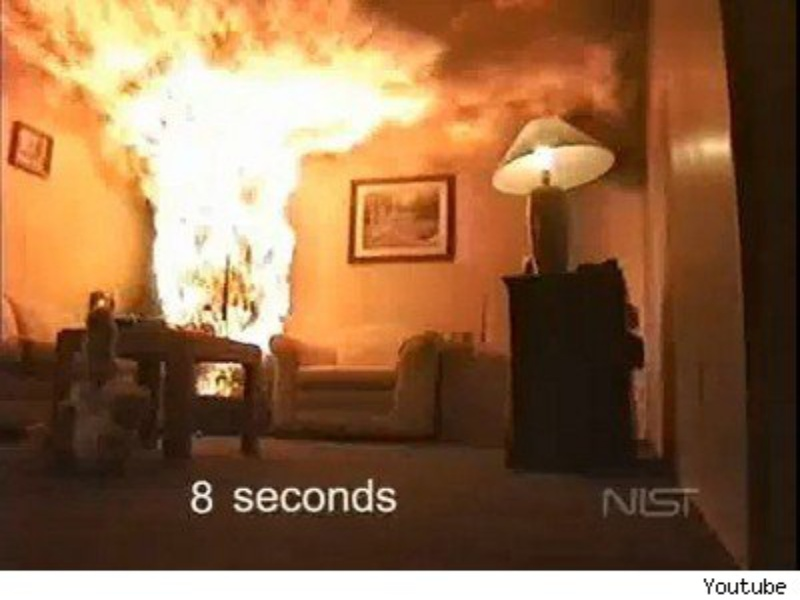fire: (110, 14, 307, 348)
